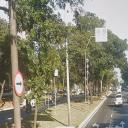speed_limit_50: (102, 28, 106, 36)
speed_limit_60: (96, 28, 100, 36)
